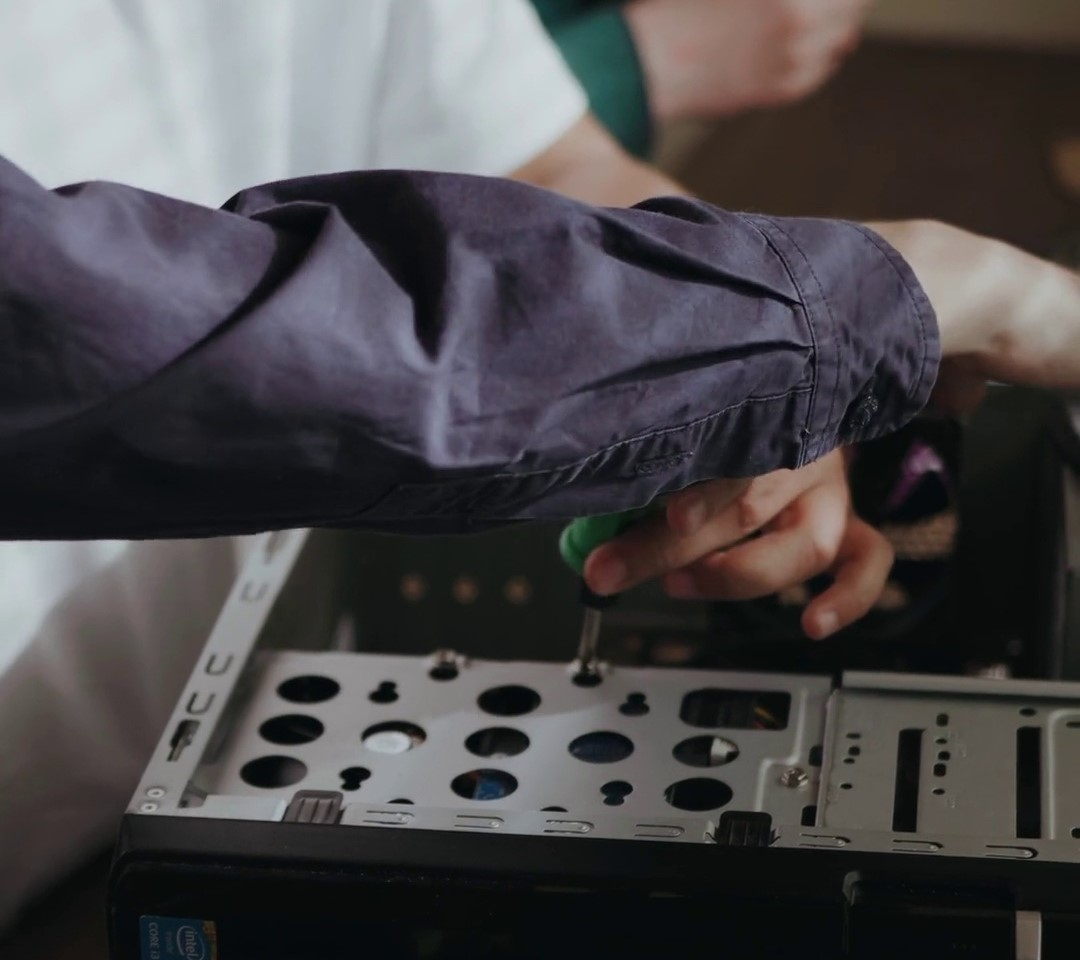screwdriver: (553, 451, 650, 665)
